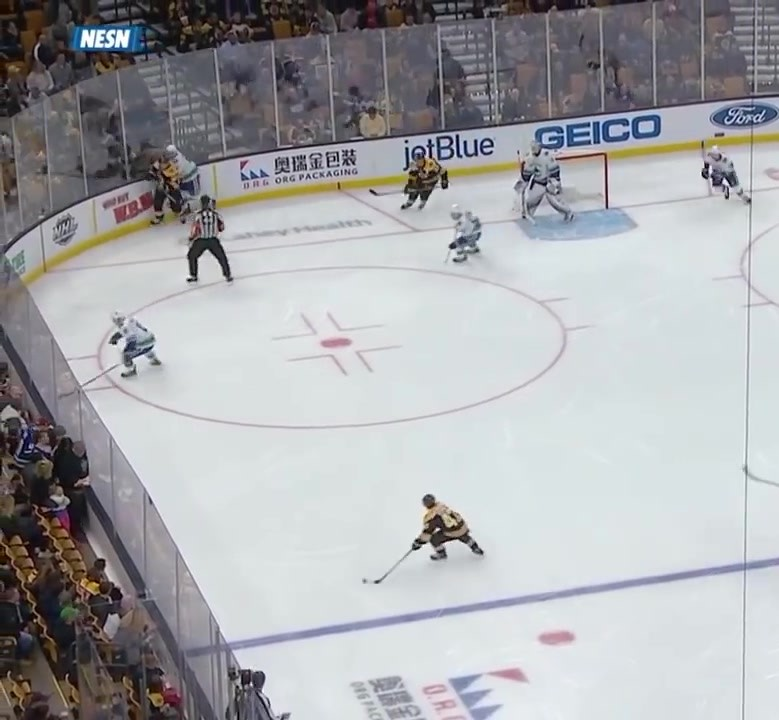Geico: (535, 112, 679, 158)
